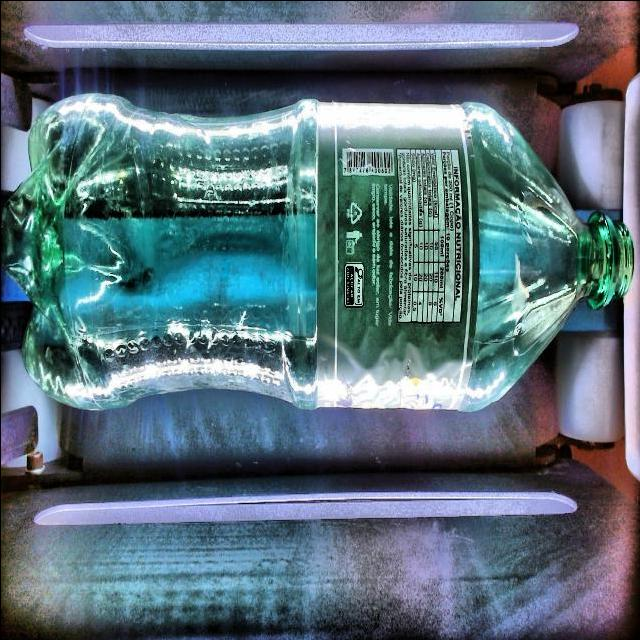bottom: (0, 86, 118, 430)
code: (340, 144, 396, 181)
no_cap: (575, 215, 640, 325)
